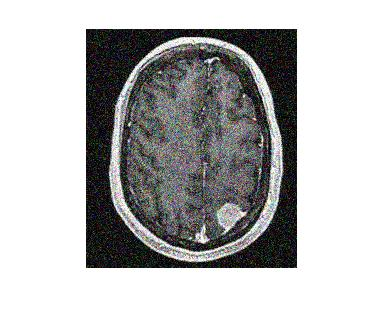Brain_Cancer: (208, 201, 251, 238)
